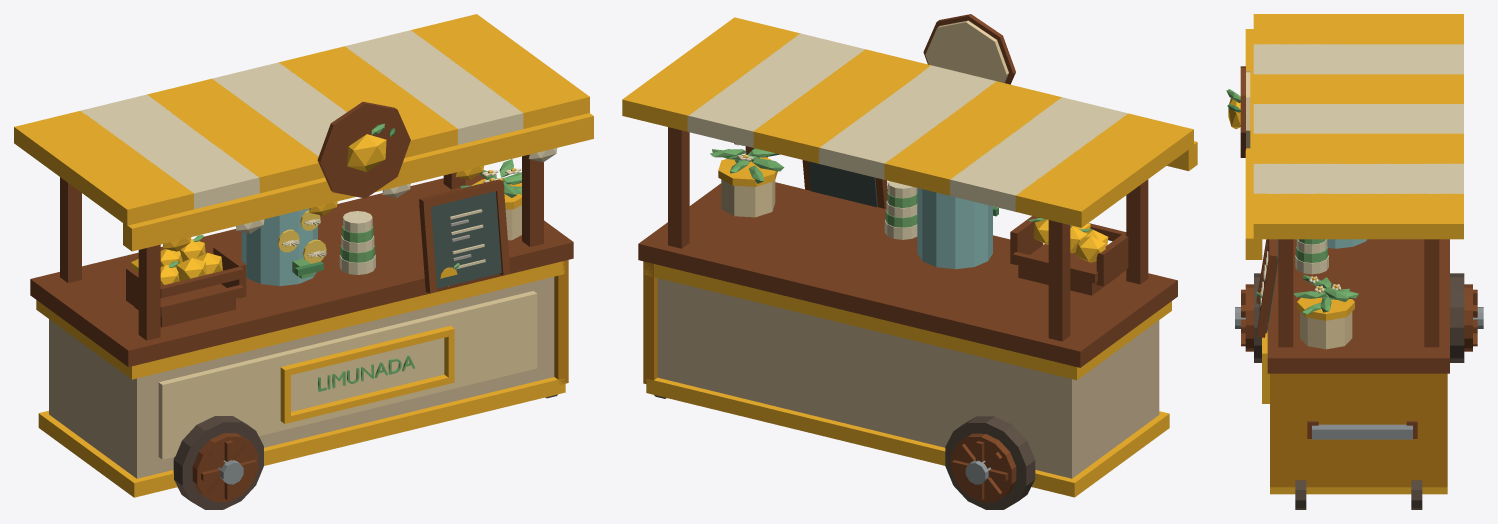
File: LemonadeStand.glb
3 renders of one model, left to right at view 1: azimuth 30°, elevation 25°; view 2: azimuth 150°, elevation 25°; view 3: azimuth 270°, elevation 25°, orthographic. The views are drawn at different scales.
Visible parts, largest first — view 1: LemonadeStand_countertop_wood, LemonadeStand_front_panel_light, LemonadeStand_cart_body_cream, LemonadeStand_awning_front_valance, LemonadeStand_awning_stripe_1, LemonadeStand_awning_stripe_7, LemonadeStand_bottom_yellow_trim, LemonadeStand_awning_stripe_6, LemonadeStand_awning_stripe_2, LemonadeStand_awning_stripe_3, LemonadeStand_top_yellow_trim, LemonadeStand_awning_stripe_5 (+21 smaller); view 2: LemonadeStand_cart_body_cream, LemonadeStand_countertop_wood, LemonadeStand_awning_stripe_1, LemonadeStand_awning_stripe_7, LemonadeStand_awning_stripe_5, LemonadeStand_awning_stripe_2, LemonadeStand_awning_stripe_3, LemonadeStand_bottom_yellow_trim, LemonadeStand_awning_stripe_4, LemonadeStand_awning_stripe_6, LemonadeStand_top_yellow_trim, LemonadeStand_dispenser_glass_outer (+15 smaller); view 3: LemonadeStand_thin_side_trim, LemonadeStand_countertop_wood, LemonadeStand_awning_stripe_7, LemonadeStand_awning_stripe_2, LemonadeStand_awning_stripe_5, LemonadeStand_awning_stripe_1, LemonadeStand_awning_stripe_6, LemonadeStand_awning_stripe_3, LemonadeStand_awning_stripe_4, LemonadeStand_awning_front_valance, LemonadeStand_wood_post_2, LemonadeStand_wood_post_4 (+17 smaller).
Boxes of the visible parts, x1,y1,x2,y2 form: LemonadeStand_countertop_wood: [30, 174, 573, 366]; LemonadeStand_front_panel_light: [158, 291, 537, 459]; LemonadeStand_cart_body_cream: [49, 277, 554, 478]; LemonadeStand_awning_front_valance: [123, 113, 593, 251]; LemonadeStand_awning_stripe_1: [14, 111, 193, 225]; LemonadeStand_awning_stripe_7: [411, 14, 589, 128]; LemonadeStand_bottom_yellow_trim: [38, 377, 565, 497]; LemonadeStand_awning_stripe_6: [345, 30, 523, 144]; LemonadeStand_awning_stripe_2: [80, 94, 259, 209]; LemonadeStand_awning_stripe_3: [147, 78, 324, 193]; LemonadeStand_top_yellow_trim: [36, 261, 566, 379]; LemonadeStand_awning_stripe_5: [279, 46, 457, 157]; LemonadeStand_cart_body_cream: [657, 278, 1159, 478]; LemonadeStand_countertop_wood: [638, 182, 1177, 367]; LemonadeStand_awning_stripe_1: [1015, 113, 1193, 227]; LemonadeStand_awning_stripe_7: [622, 17, 800, 131]; LemonadeStand_awning_stripe_5: [753, 49, 930, 163]; LemonadeStand_awning_stripe_2: [949, 97, 1127, 211]; LemonadeStand_awning_stripe_3: [884, 81, 1061, 195]; LemonadeStand_bottom_yellow_trim: [646, 377, 1169, 497]; LemonadeStand_awning_stripe_4: [818, 65, 996, 179]; LemonadeStand_awning_stripe_6: [687, 33, 864, 147]; LemonadeStand_top_yellow_trim: [644, 264, 1171, 380]; LemonadeStand_dispenser_glass_outer: [917, 188, 992, 269]; LemonadeStand_thin_side_trim: [1270, 373, 1447, 487]; LemonadeStand_countertop_wood: [1267, 239, 1449, 373]; LemonadeStand_awning_stripe_7: [1253, 193, 1463, 239]; LemonadeStand_awning_stripe_2: [1253, 44, 1463, 74]; LemonadeStand_awning_stripe_5: [1253, 133, 1463, 163]; LemonadeStand_awning_stripe_1: [1253, 14, 1463, 44]; LemonadeStand_awning_stripe_6: [1253, 163, 1463, 193]; LemonadeStand_awning_stripe_3: [1253, 74, 1463, 103]; LemonadeStand_awning_stripe_4: [1253, 104, 1463, 133]; LemonadeStand_awning_front_valance: [1245, 29, 1262, 259]; LemonadeStand_wood_post_2: [1278, 239, 1293, 347]; LemonadeStand_wood_post_4: [1424, 239, 1439, 347].
Bounding box in the file's own units: 5.31 × 4.15 × 2.75.
